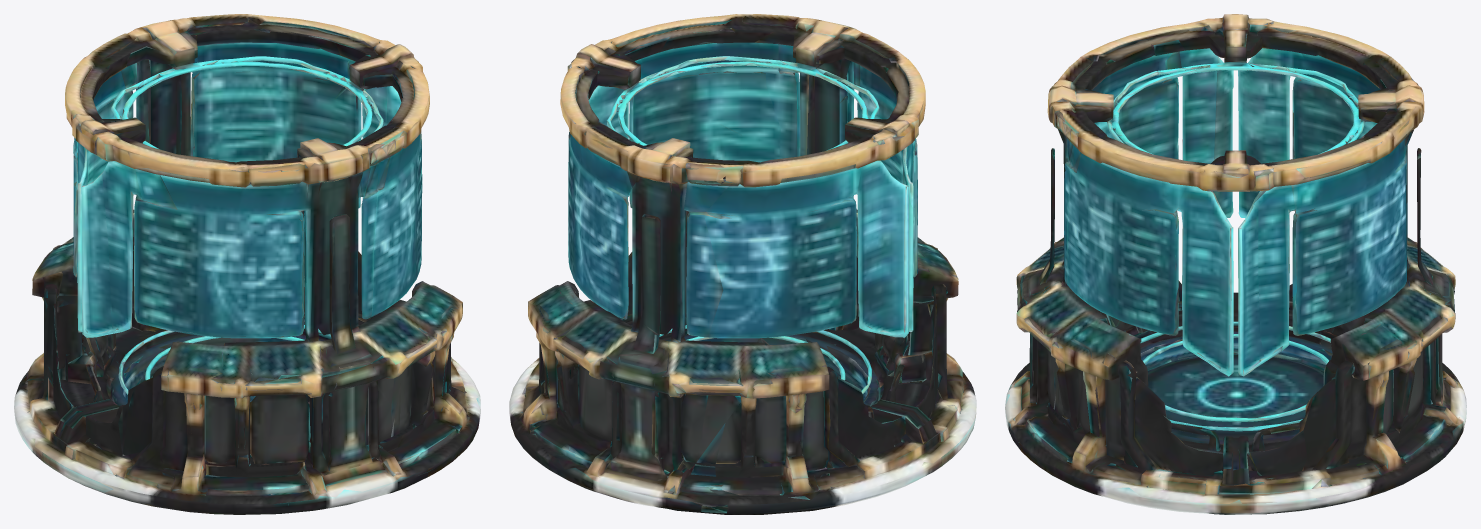
File: eoncity_agent_theatre_relay_console.1671a0ba965b.glb
3 views of the same model, side by side, from view 1: azimuth 30°, elevation 25°; view 2: azimuth 150°, elevation 25°; view 3: azimuth 270°, elevation 25° (orthographic).
Parts seen in each view (by area): view 1: Mesh1.0; view 2: Mesh1.0; view 3: Mesh1.0.
Part boxes in pixels (<box>): Mesh1.0: <box>14,14,480,514</box>; Mesh1.0: <box>509,14,976,514</box>; Mesh1.0: <box>1005,14,1466,514</box>.
Bounding box in the file's own units: 1.9 × 1.49 × 1.9.
Materials: 1 (1 with a texture image).
